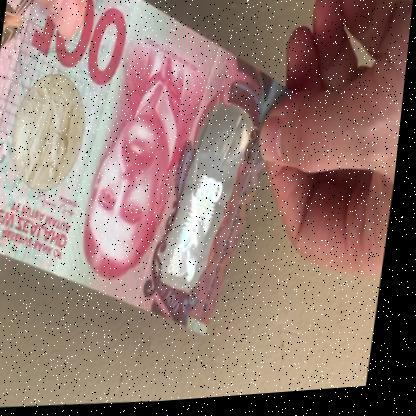100F: (169, 102, 254, 290)
